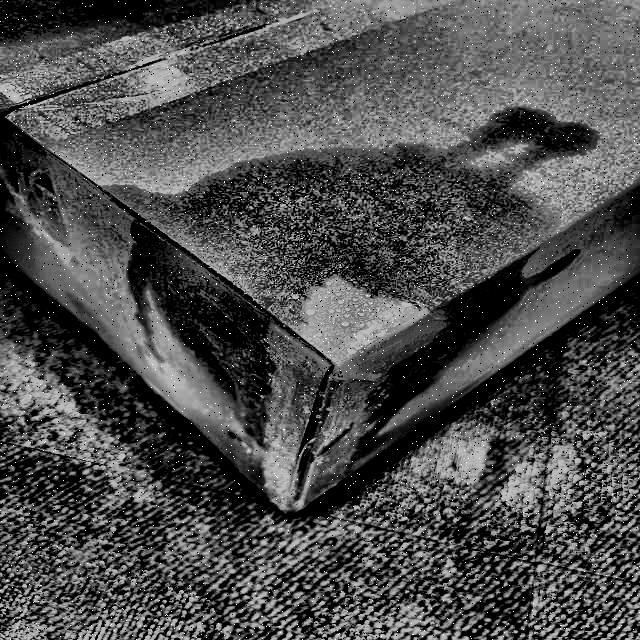box: (0, 0, 639, 526)
wet: (136, 123, 592, 477)
